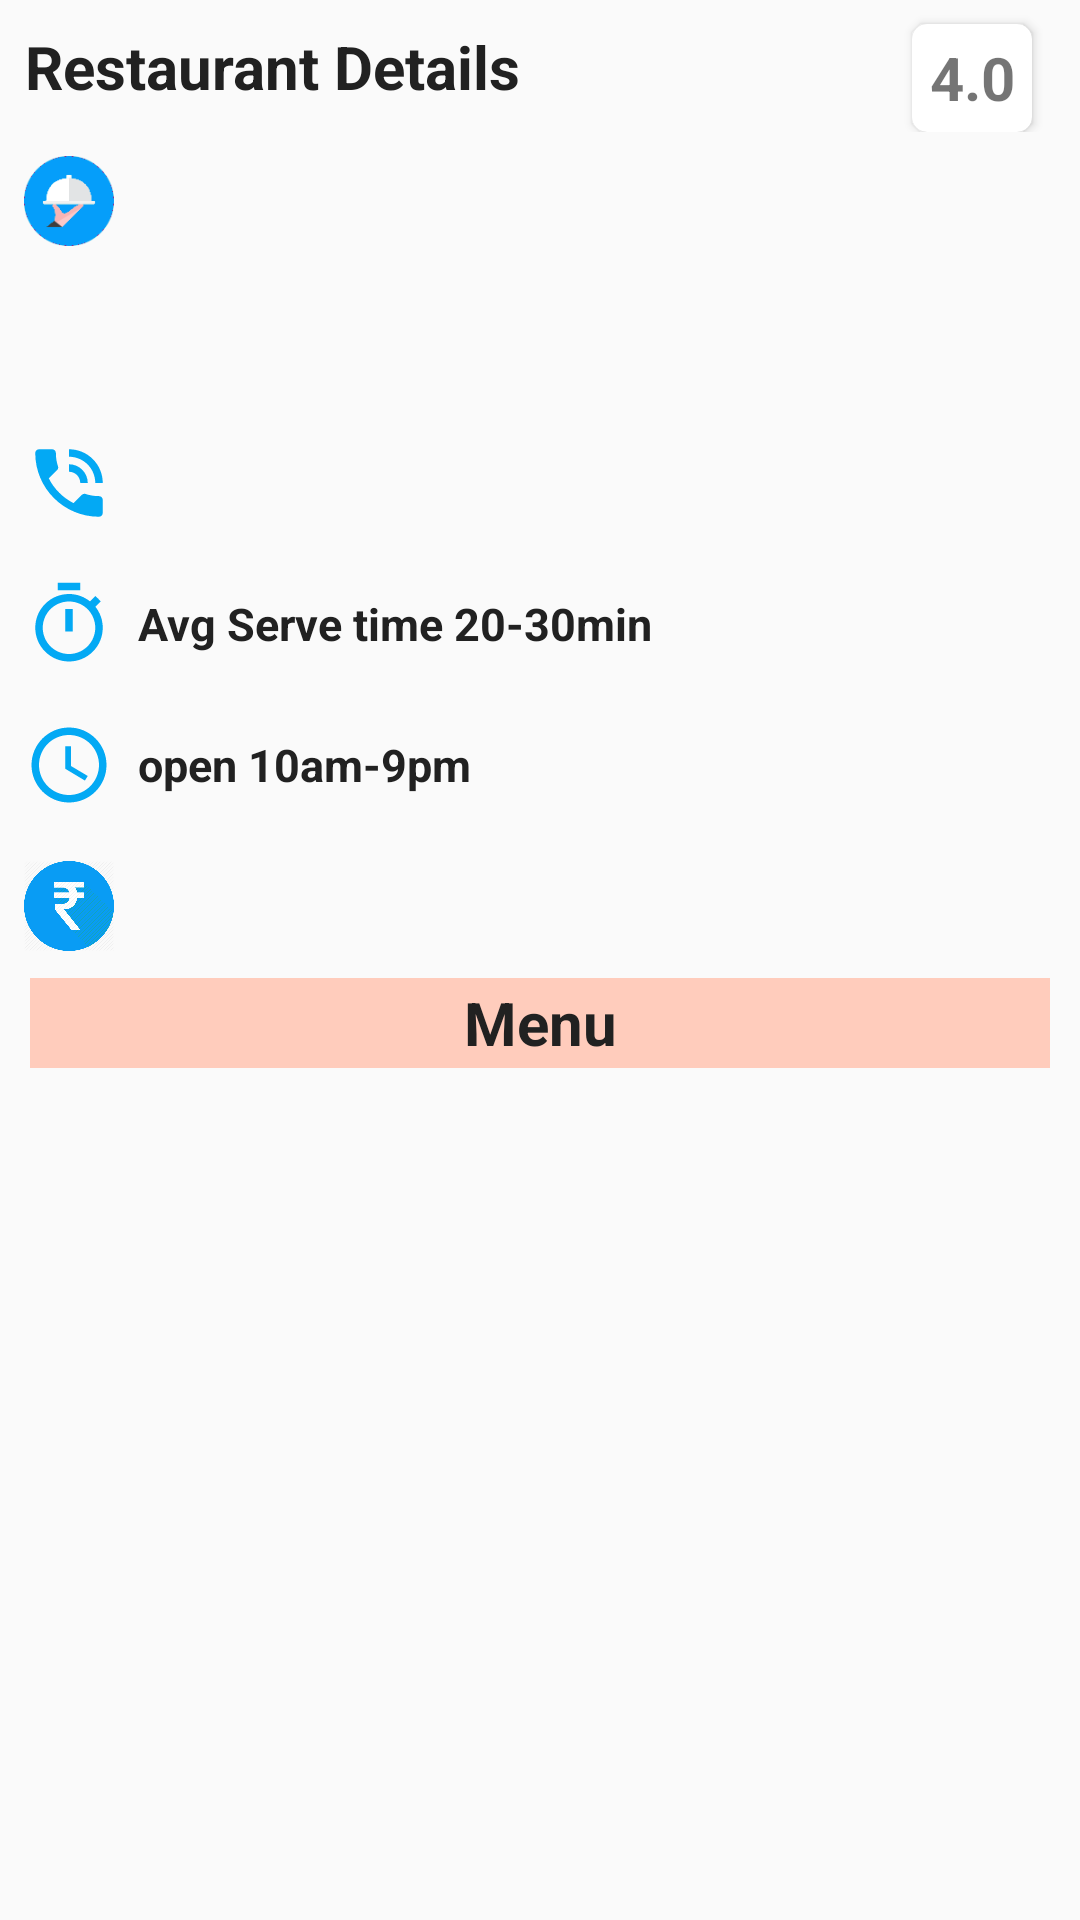

Icons on this 1080 × 1920 Android screen, each with the point to tap as (x,y):
clock: (69,765)
food: (69,201)
phone in talk: (69,483)
rupee: (69,906)
